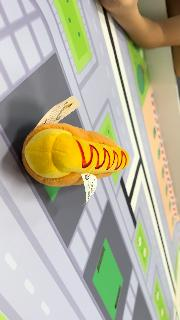hotdog: (22, 122, 130, 188)
